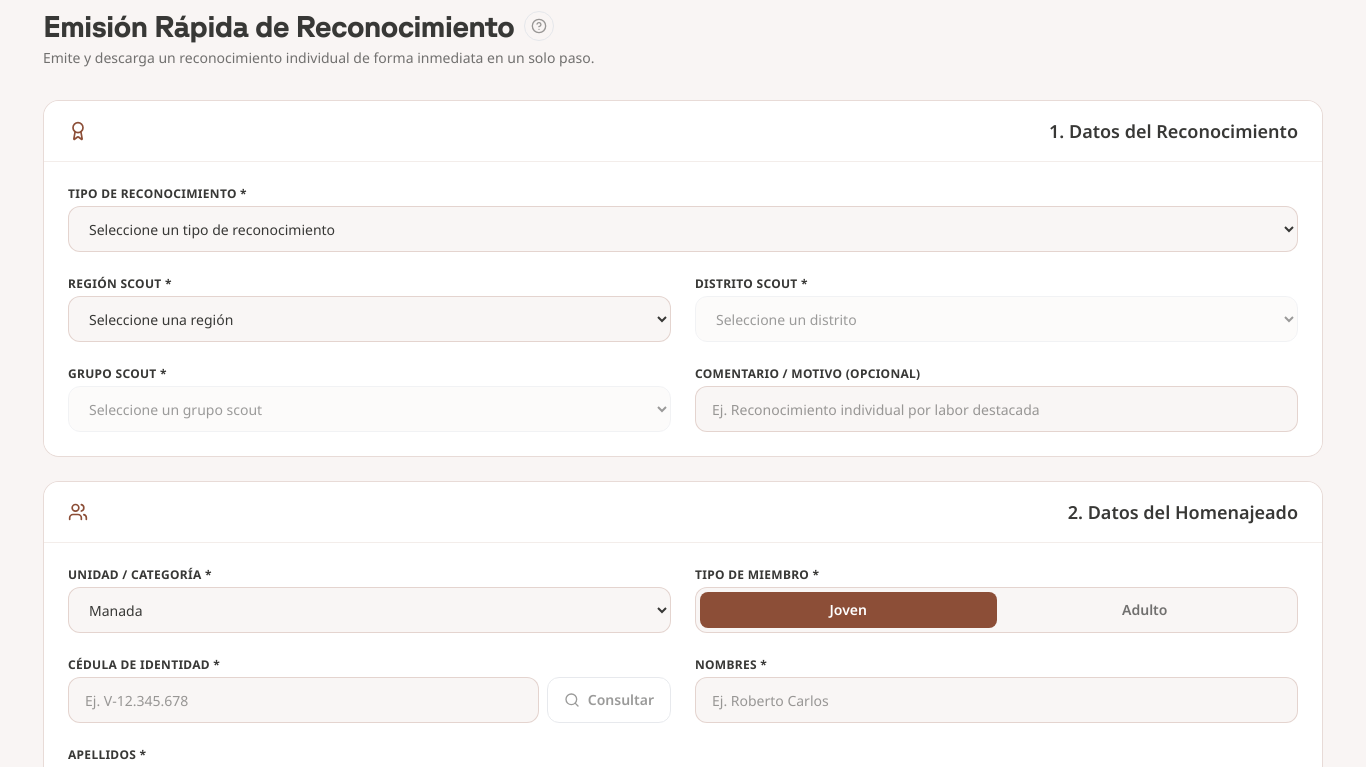
QuickRecognition Component › handles Sistema de Registro not found error gracefully
Type "V-99999999" into the field labelled "Cédula de Identidad" at (303, 700), box [68,677,539,723]
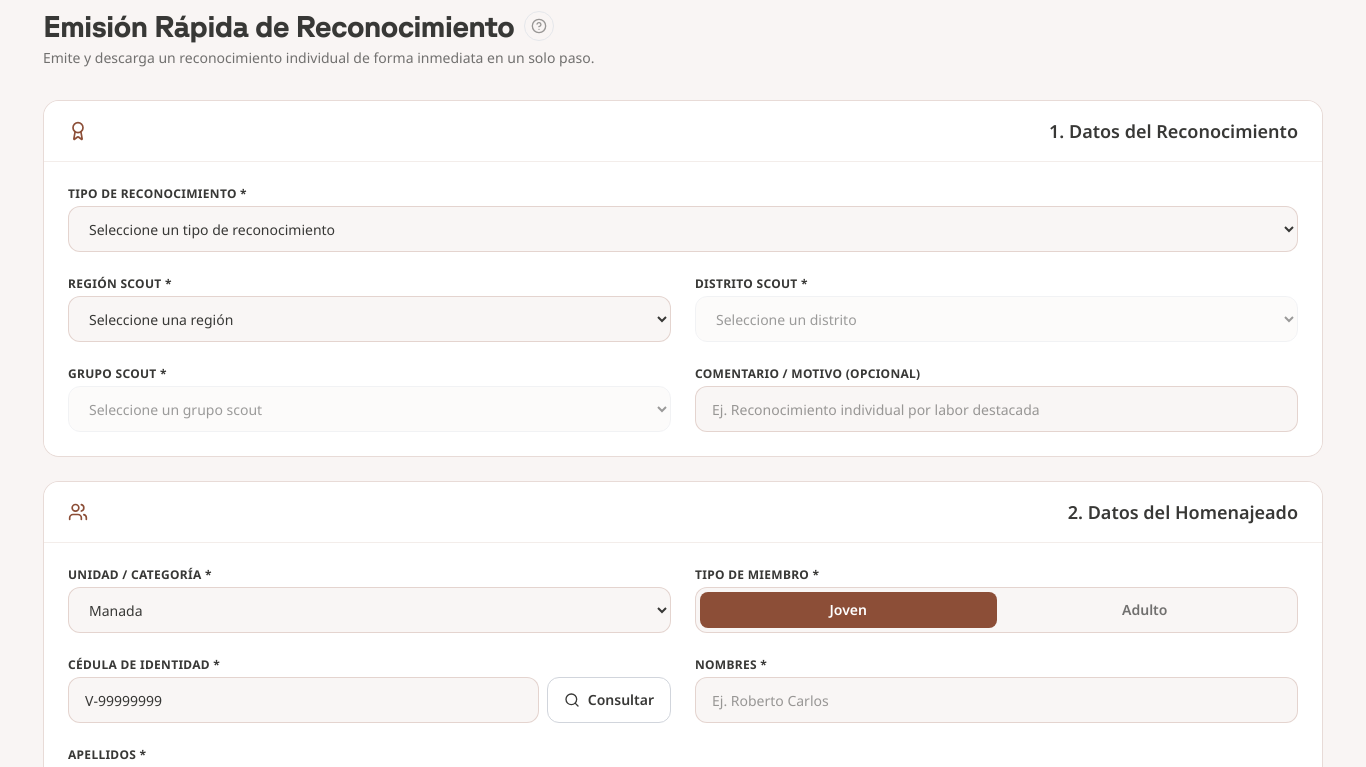
Click the button "Consultar" at (609, 700), box [547,677,671,723]
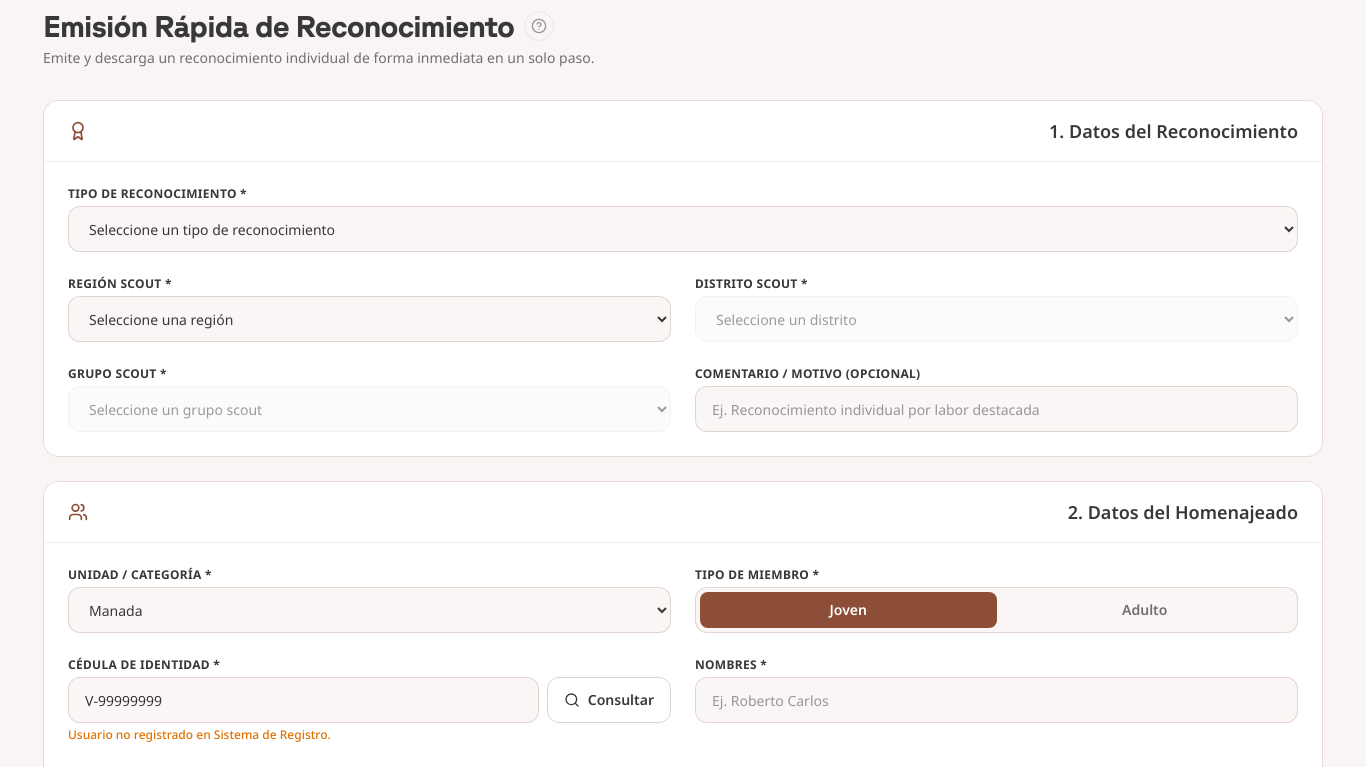
Expected: the text "Usuario no registrado en Sistema de Registro." is shown, [68,726,331,743]
